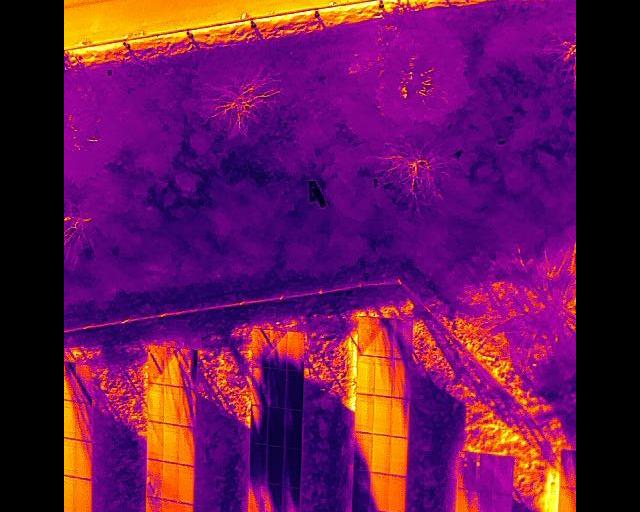No-Anomaly: (389, 436, 409, 475), (372, 434, 391, 473), (356, 393, 374, 432), (373, 395, 391, 434), (72, 476, 91, 512), (389, 474, 407, 512), (358, 354, 375, 393), (375, 357, 392, 396), (177, 464, 193, 504), (162, 461, 177, 500), (163, 423, 178, 462), (559, 487, 576, 512), (161, 499, 177, 512), (178, 502, 194, 512)
Shadowing: (267, 367, 289, 408), (282, 445, 303, 487), (251, 327, 272, 368), (283, 406, 304, 447), (247, 440, 267, 482), (250, 404, 270, 445), (285, 367, 305, 408), (353, 431, 373, 471), (286, 331, 306, 371), (458, 450, 478, 490), (268, 330, 289, 368), (264, 445, 284, 484), (493, 455, 513, 494), (268, 405, 287, 446), (371, 471, 390, 511), (352, 470, 371, 510), (393, 319, 412, 359), (392, 358, 411, 397), (391, 397, 410, 436), (74, 401, 92, 441), (74, 363, 92, 403), (74, 440, 92, 480), (359, 316, 377, 355), (163, 346, 180, 386), (376, 316, 393, 356), (148, 346, 166, 383), (477, 453, 494, 492), (147, 382, 164, 421), (146, 422, 163, 459), (164, 385, 180, 424), (178, 425, 194, 464), (146, 458, 162, 497), (180, 348, 196, 386), (247, 479, 265, 512), (560, 449, 576, 486), (179, 387, 194, 425), (265, 482, 283, 512), (282, 486, 300, 512), (456, 488, 475, 512), (473, 491, 493, 512), (491, 493, 511, 512), (145, 496, 162, 512)
